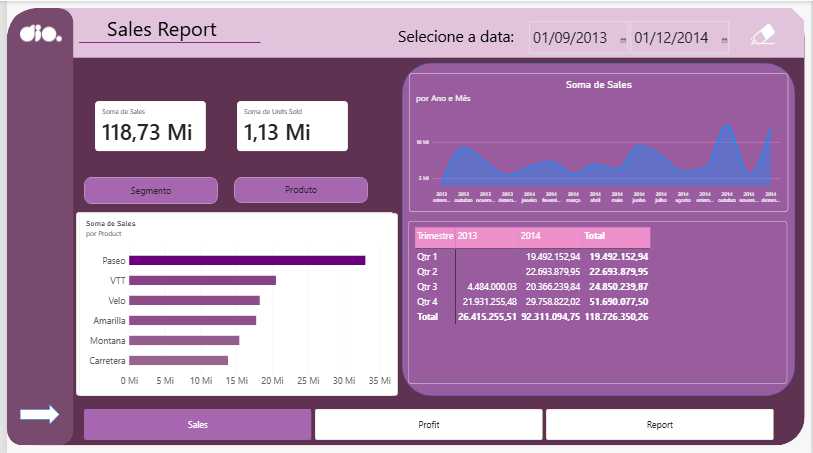

The page's visual inventory and layout, read from the dashboard file:
{"tool":"powerbi","page":{"name":"Sales","canvas":[1920,1080],"ordinal":0},"visuals":[{"type":"shape","box":[11.4,17,1894.4,1045.2],"z":0},{"type":"image","box":[1750,51.3,113.3,56.7],"z":0,"group":"g1"},{"type":"clusteredBarChart","title":"Sales x Segment","fields":{"Category":["financials.Segment"],"Y":["Sum(financials. Sales)"]},"box":[164.9,504.2,759.3,438.9],"z":0,"group":"g2"},{"type":"clusteredBarChart","fields":{"Category":["financials.Product"],"Y":["Sum(financials. Sales)"]},"box":[172,506.6,762.2,437.3],"z":250,"group":"g2"},{"type":"actionButton","box":[542.3,420.5,320.2,62.1],"z":500,"group":"g2"},{"type":"actionButton","box":[183.9,420.5,320.2,64.5],"z":750,"group":"g2"},{"type":"shape","box":[110.8,17,1795,119.3],"z":1000},{"type":"slicer","fields":{"Values":["financials.Date"]},"box":[1239.2,43,520,102.5],"z":1000,"group":"g1"},{"type":"shape","box":[0,17,159.1,1045.2],"z":2000},{"type":"actionButton","box":[1759.2,50.5,100,70],"z":2000,"group":"g1"},{"type":"textbox","box":[934.2,58,282.5,52.5],"z":2500,"group":"g1"},{"type":"shape","box":[31.1,962.9,95,50],"z":3000},{"type":"image","box":[30,28,100,96],"z":4000},{"type":"shape","box":[171.9,85.7,434,26],"z":5000},{"type":"textbox","box":[239.9,31.7,300,68],"z":6000},{"type":"shape","box":[943.8,148.1,939,795.7],"z":7000},{"type":"areaChart","fields":{"Category":["financials.Date.Variation.Hierarquia de datas.Ano","financials.Date.Variation.Hierarquia de datas.Mês"],"Y":["Sum(financials. Sales)"]},"box":[960.5,172,905.6,332.1],"z":8000},{"type":"cardVisual","fields":{"Data":["Sum(financials. Sales)"]},"box":[210.3,238.9,265,120],"z":9000},{"type":"cardVisual","fields":{"Data":["Sum(financials.Units Sold)"]},"box":[550,238.3,265,120],"z":10000},{"type":"group","id":"g1","title":"Grupo 2","box":[934.2,43,929.5,102.7],"z":11000},{"type":"group","id":"g2","title":"Grupo 4","box":[164.9,420.5,769.4,523.3],"z":12000},{"type":"pivotTable","fields":{"Columns":["financials.Date.Variation.Hierarquia de datas.Ano"],"Rows":["financials.Date.Variation.Hierarquia de datas.Trimestre"],"Values":["Sum(financials. Sales)"]},"box":[958.1,525.7,905.6,389.5],"z":13000},{"type":"pageNavigator","box":[0,0,400,50],"z":14000},{"type":"pageNavigator","box":[184,974.9,1648.7,74.1],"z":15000}]}

Visuals, with their boxes in screenshot pixels (x1, y1, x2, y2), scaled from the page's 1920x1080 canvas onto the 813x453 screenshot:
shape: select_region(5, 7, 807, 446)
image: select_region(741, 22, 789, 45)
"Sales x Segment" clusteredBarChart: select_region(70, 211, 391, 396)
clusteredBarChart - financials.Product x Sum(financials. Sales): select_region(73, 212, 396, 396)
actionButton: select_region(230, 176, 365, 202)
actionButton: select_region(78, 176, 213, 203)
shape: select_region(47, 7, 807, 57)
slicer - financials.Date: select_region(525, 18, 745, 61)
shape: select_region(0, 7, 67, 446)
actionButton: select_region(745, 21, 787, 51)
textbox: select_region(396, 24, 515, 46)
shape: select_region(13, 404, 53, 425)
image: select_region(13, 12, 55, 52)
shape: select_region(73, 36, 257, 47)
textbox: select_region(102, 13, 229, 42)
shape: select_region(400, 62, 797, 396)
areaChart - financials.Date.Variation.Hierarquia de datas.Ano x financials.Date.Variation.Hierarquia de datas.Mês: select_region(407, 72, 790, 211)
cardVisual - Sum(financials. Sales): select_region(89, 100, 201, 151)
cardVisual - Sum(financials.Units Sold): select_region(233, 100, 345, 150)
"Grupo 2" group: select_region(396, 18, 789, 61)
"Grupo 4" group: select_region(70, 176, 396, 396)
pivotTable - financials.Date.Variation.Hierarquia de datas.Ano x financials.Date.Variation.Hierarquia de datas.Trimestre: select_region(406, 221, 789, 384)
pageNavigator: select_region(0, 0, 169, 21)
pageNavigator: select_region(78, 409, 776, 440)
